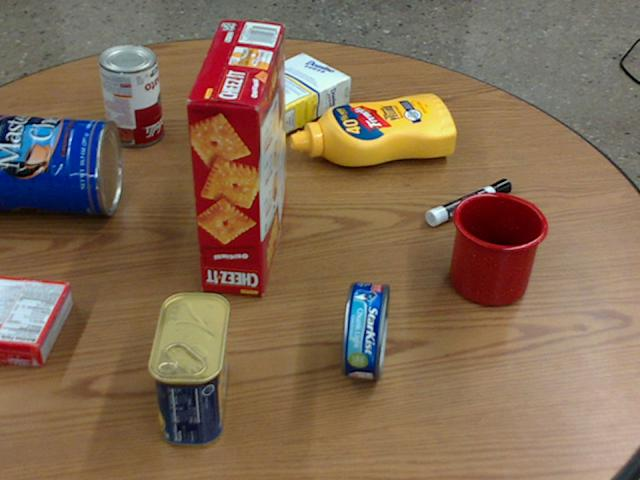cracker_box: (185, 21, 284, 295)
gelatin_box: (0, 276, 73, 365)
large_marker: (426, 179, 511, 225)
master_chef_can: (0, 115, 119, 215)
mug: (450, 191, 549, 305)
mustard_bottle: (290, 95, 456, 164)
potted_meat_can: (149, 292, 229, 447)
sugar_box: (203, 51, 351, 152)
tomato_soup_can: (98, 44, 162, 147)
tuna_fish_can: (340, 281, 390, 380)
